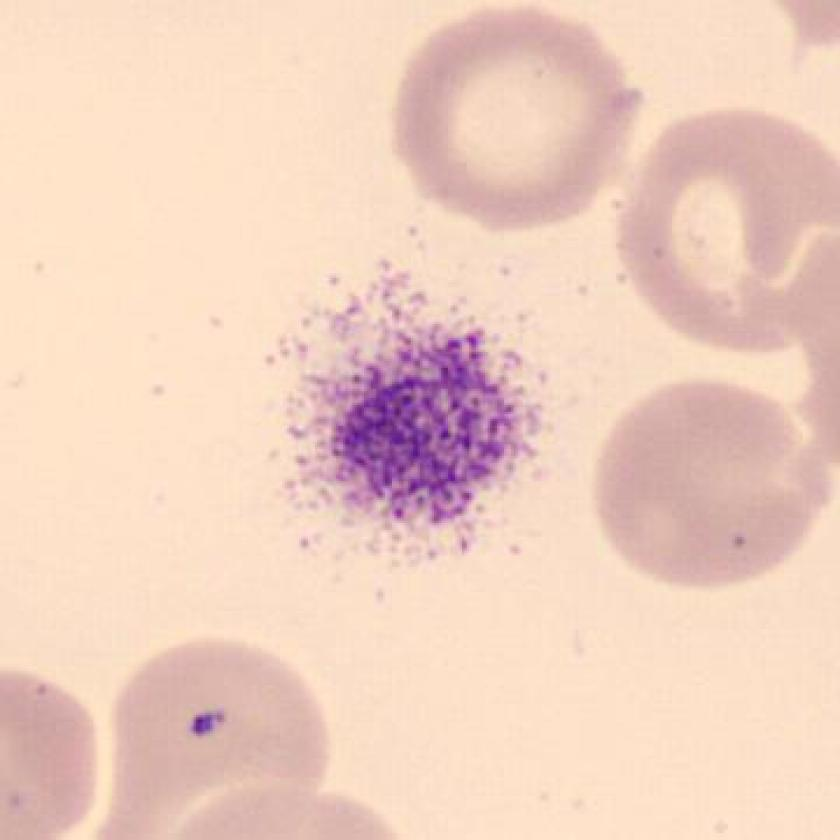platelets: (279, 302, 547, 566)
